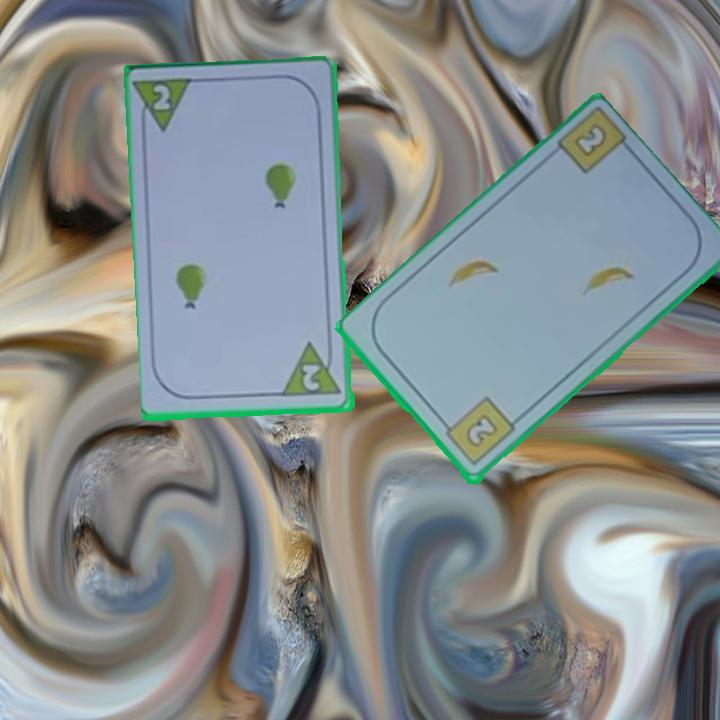2b: (437, 394, 518, 470), (570, 120, 610, 161)
2p: (133, 75, 198, 138), (281, 339, 345, 400)
